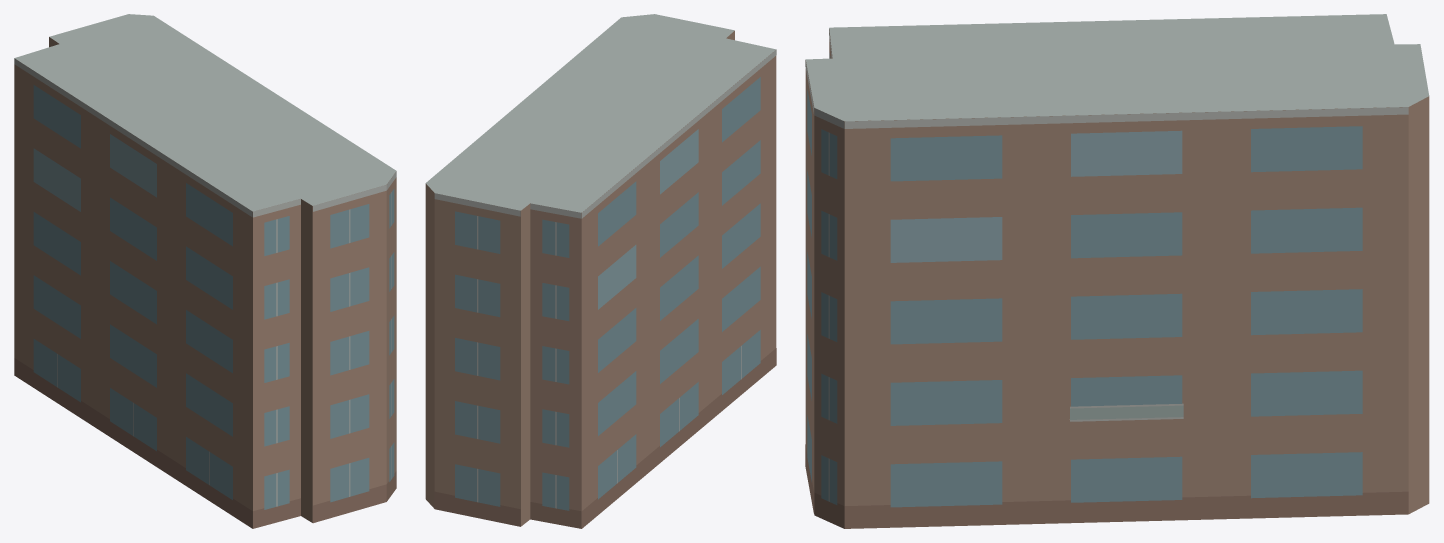
The model's file is survey-upis-32806721.glb.
3 views of the same model, side by side, from view 1: azimuth 30°, elevation 25°; view 2: azimuth 150°, elevation 25°; view 3: azimuth 270°, elevation 25° (orthographic). The views are drawn at different scales.
Visible parts, largest first — view 1: survey-upis-32806721.tmp; view 2: survey-upis-32806721.tmp; view 3: survey-upis-32806721.tmp.
Part boxes in pixels (x1,y1,x2,y2): survey-upis-32806721.tmp: (14, 14, 396, 528); survey-upis-32806721.tmp: (425, 14, 776, 528); survey-upis-32806721.tmp: (805, 14, 1429, 528).
Size of the model in its own units: 7.36 by 13 by 18.04.
